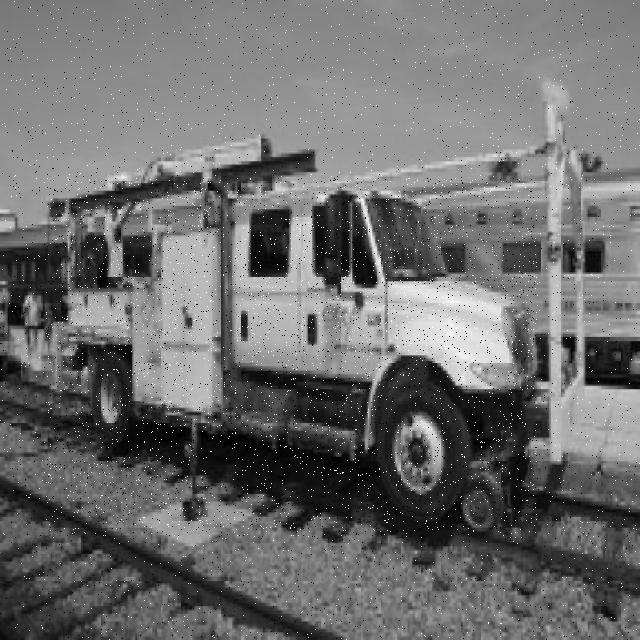Box Truck: (46, 178, 537, 537)
